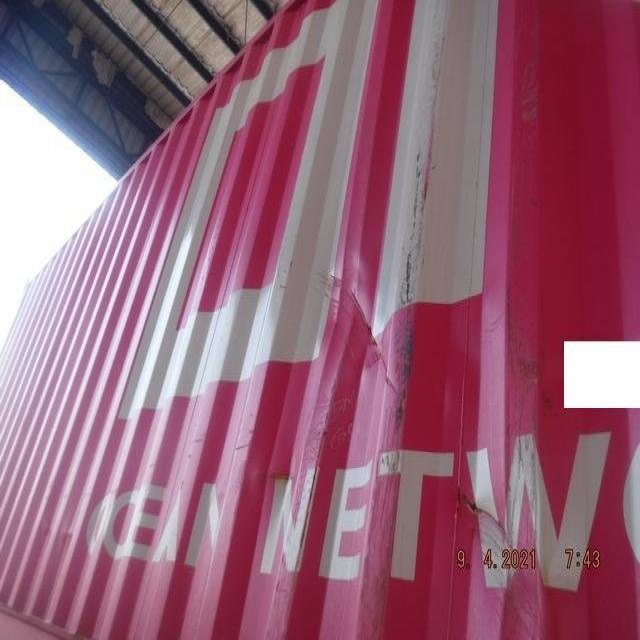dent: (281, 249, 405, 405), (448, 484, 548, 631), (236, 447, 306, 503)
